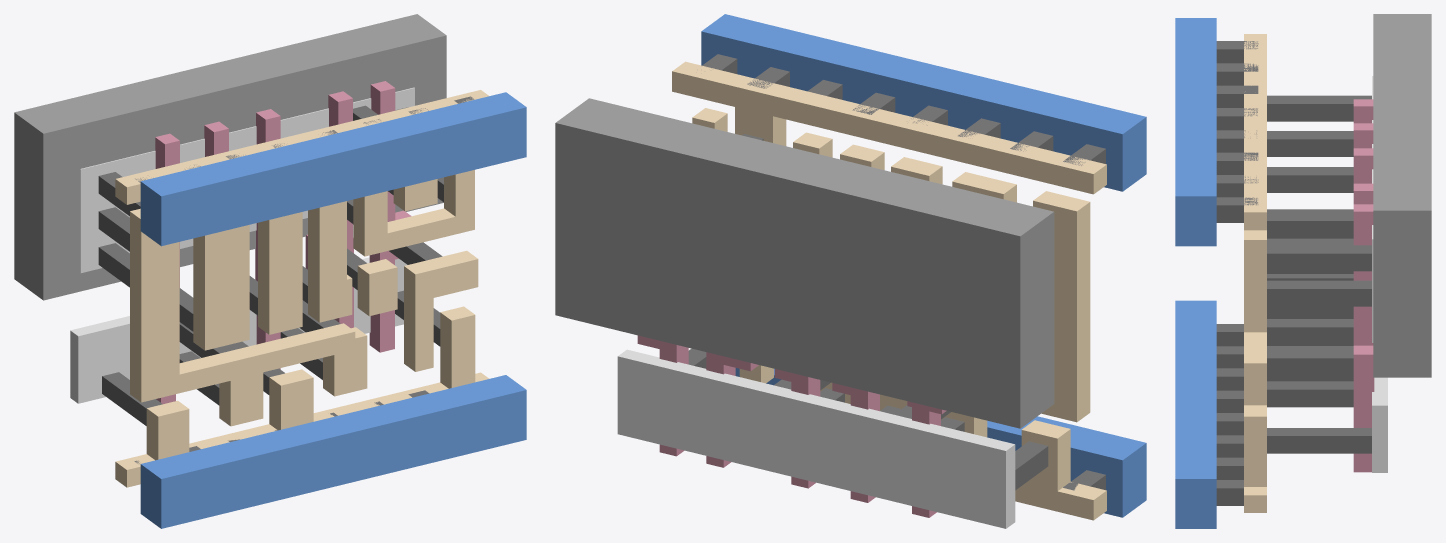
Rendered from sky130_fd_sc_hd__a2111oi_1.gds.gltf.
The picture shows the model from 3 angles, left to right: view 1: azimuth 30°, elevation 25°; view 2: azimuth 150°, elevation 25°; view 3: azimuth 270°, elevation 25°; orthographic projection. The views are drawn at different scales.
Visible parts, largest first — view 1: sky130_fd_sc_hd__a2111oi_1_li1, sky130_fd_sc_hd__a2111oi_1_met1, sky130_fd_sc_hd__a2111oi_1_nwell, sky130_fd_sc_hd__a2111oi_1_diff, sky130_fd_sc_hd__a2111oi_1_licon, sky130_fd_sc_hd__a2111oi_1_poly; view 2: sky130_fd_sc_hd__a2111oi_1_nwell, sky130_fd_sc_hd__a2111oi_1_diff, sky130_fd_sc_hd__a2111oi_1_li1, sky130_fd_sc_hd__a2111oi_1_met1, sky130_fd_sc_hd__a2111oi_1_mcon, sky130_fd_sc_hd__a2111oi_1_poly, sky130_fd_sc_hd__a2111oi_1_licon; view 3: sky130_fd_sc_hd__a2111oi_1_licon, sky130_fd_sc_hd__a2111oi_1_nwell, sky130_fd_sc_hd__a2111oi_1_met1, sky130_fd_sc_hd__a2111oi_1_mcon, sky130_fd_sc_hd__a2111oi_1_li1, sky130_fd_sc_hd__a2111oi_1_poly, sky130_fd_sc_hd__a2111oi_1_diff.
Part boxes in pixels (x1,y1,x2,y2): sky130_fd_sc_hd__a2111oi_1_li1: [115, 90, 489, 487]; sky130_fd_sc_hd__a2111oi_1_met1: [140, 92, 526, 528]; sky130_fd_sc_hd__a2111oi_1_nwell: [14, 14, 446, 300]; sky130_fd_sc_hd__a2111oi_1_diff: [70, 87, 414, 403]; sky130_fd_sc_hd__a2111oi_1_licon: [98, 105, 443, 425]; sky130_fd_sc_hd__a2111oi_1_poly: [155, 81, 411, 404]; sky130_fd_sc_hd__a2111oi_1_nwell: [555, 98, 1054, 428]; sky130_fd_sc_hd__a2111oi_1_diff: [617, 349, 1015, 528]; sky130_fd_sc_hd__a2111oi_1_li1: [672, 61, 1106, 520]; sky130_fd_sc_hd__a2111oi_1_met1: [701, 14, 1146, 517]; sky130_fd_sc_hd__a2111oi_1_mcon: [702, 54, 1105, 490]; sky130_fd_sc_hd__a2111oi_1_poly: [637, 335, 946, 517]; sky130_fd_sc_hd__a2111oi_1_licon: [688, 134, 1048, 490]; sky130_fd_sc_hd__a2111oi_1_licon: [1267, 95, 1371, 453]; sky130_fd_sc_hd__a2111oi_1_nwell: [1373, 14, 1431, 377]; sky130_fd_sc_hd__a2111oi_1_met1: [1175, 18, 1216, 528]; sky130_fd_sc_hd__a2111oi_1_mcon: [1216, 41, 1258, 505]; sky130_fd_sc_hd__a2111oi_1_li1: [1244, 34, 1266, 512]; sky130_fd_sc_hd__a2111oi_1_poly: [1353, 99, 1374, 472]; sky130_fd_sc_hd__a2111oi_1_diff: [1372, 76, 1387, 472].
Size of the model in its own units: 4.06 by 3.2 by 2.24.
